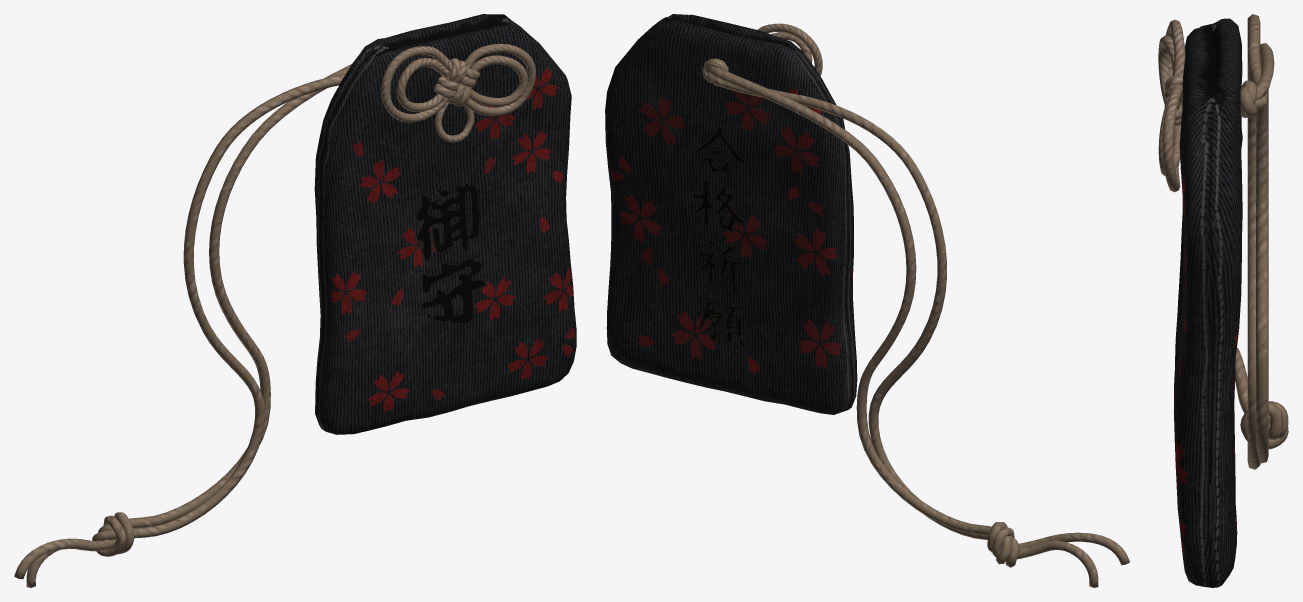
Rendered from omamori.glb.
The picture shows the model from 3 angles, left to right: view 1: azimuth 30°, elevation 25°; view 2: azimuth 150°, elevation 25°; view 3: azimuth 270°, elevation 25°; orthographic projection. The views are drawn at different scales.
Visible parts, largest first — view 1: Bag_low, 2_low, 3_low, 5_low, 15_low, 16_low, 6_low; view 2: Bag_low, 3_low, 2_low, 5_low; view 3: Bag_low, 3_low, 2_low, 15_low, 5_low, 6_low, 4_low, 16_low.
Boxes of the visible parts, x1,y1,x2,y2 form: Bag_low: (314,14,576,434); 2_low: (26,74,345,587); 3_low: (14,64,351,579); 5_low: (381,46,451,122); 15_low: (464,43,535,115); 16_low: (470,55,527,106); 6_low: (396,58,449,111); Bag_low: (605,14,857,414); 3_low: (709,66,1129,565); 2_low: (707,72,1098,587); 5_low: (757,23,822,75); Bag_low: (1173,18,1242,587); 3_low: (1235,43,1288,463); 2_low: (1247,14,1288,469); 15_low: (1162,85,1182,192); 5_low: (1165,19,1185,77); 6_low: (1158,35,1174,103); 4_low: (1240,80,1257,117); 16_low: (1158,101,1180,176).
Bounding box in the file's own units: 904 × 747 × 149.
1 material, 1 textured.
